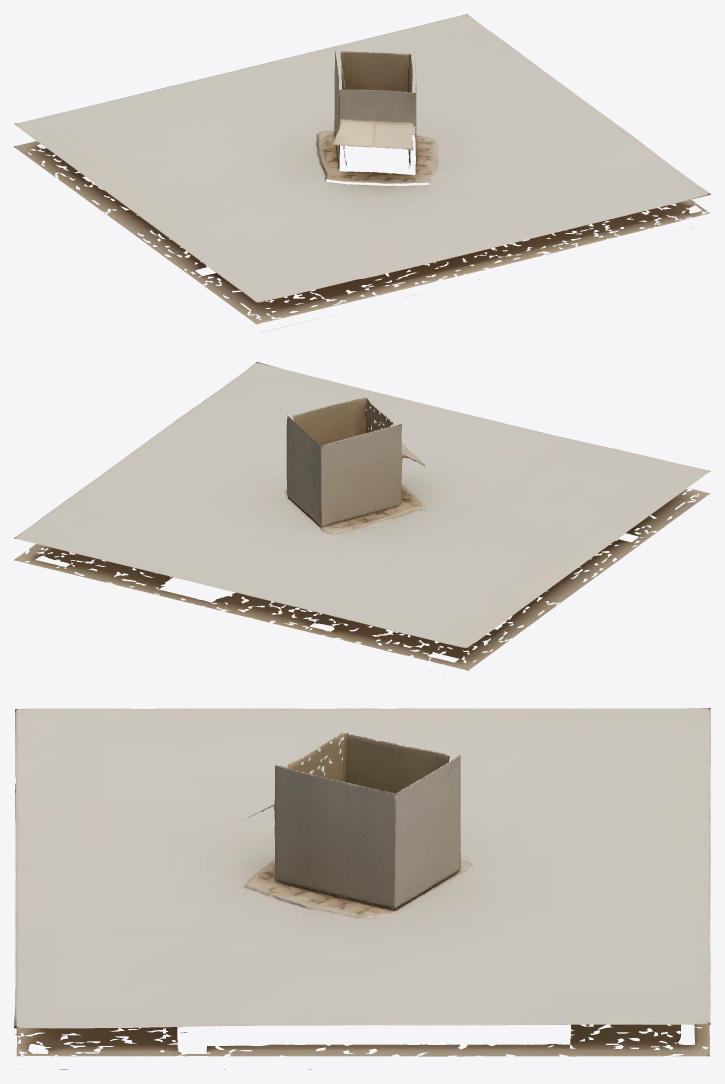
The picture shows the model from 3 angles, top to bottom: view 1: azimuth 30°, elevation 25°; view 2: azimuth 150°, elevation 25°; view 3: azimuth 270°, elevation 25°; orthographic projection. The views are drawn at different scales.
Visible parts, largest first — view 1: geometry_0; view 2: geometry_0; view 3: geometry_0.
Part boxes in pixels (left/top/right/bottom): geometry_0: left=14, top=14, right=710, bottom=326; geometry_0: left=14, top=362, right=710, bottom=670; geometry_0: left=14, top=708, right=710, bottom=1069.
Bounding box in the file's own units: 1 × 0.2404 × 0.9293.
1 material, 1 textured.
